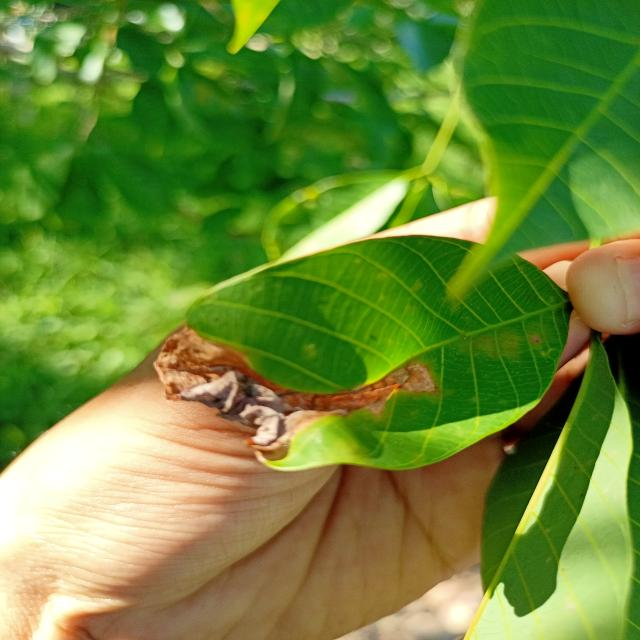Leaf-Blight: (153, 325, 438, 453)
